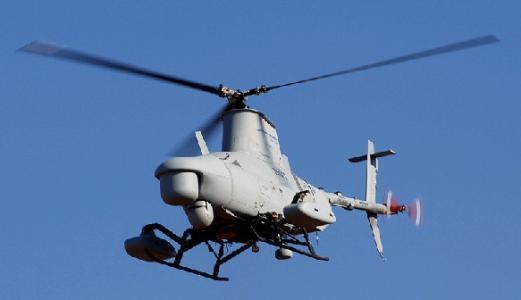airplane: (17, 30, 502, 282)
